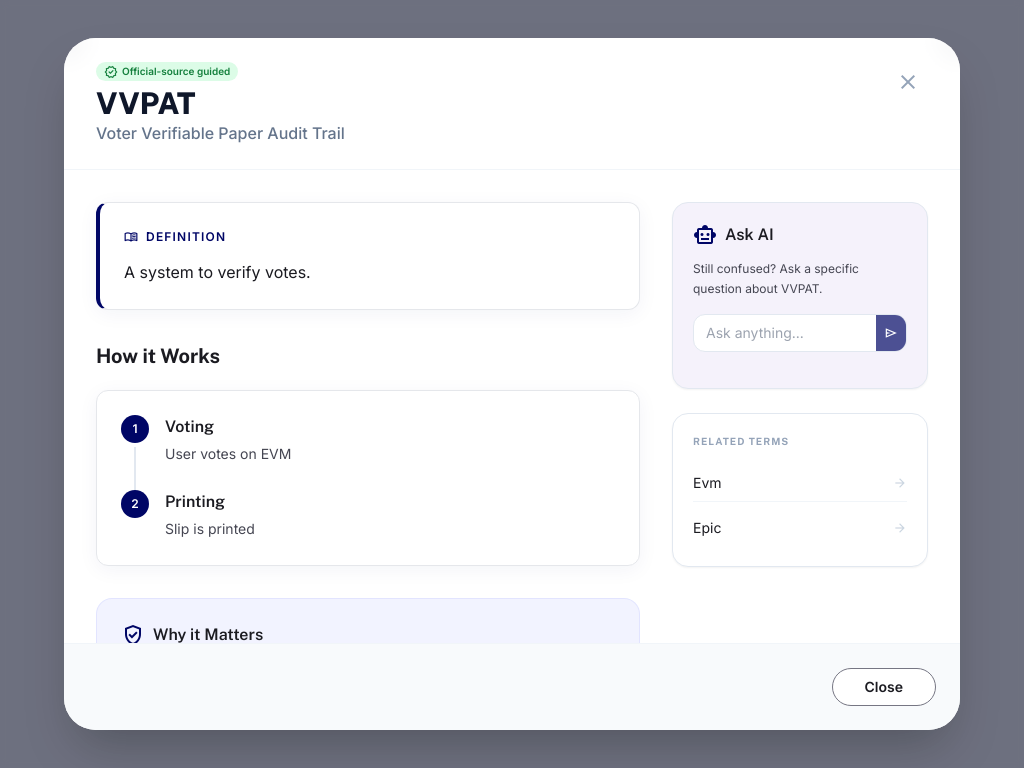
it: GlossaryModal › handles Ask AI form submission and displays response
Type "How does it print?" into the field with placeholder "Ask anything..." at (785, 333), box [694, 315, 876, 351]
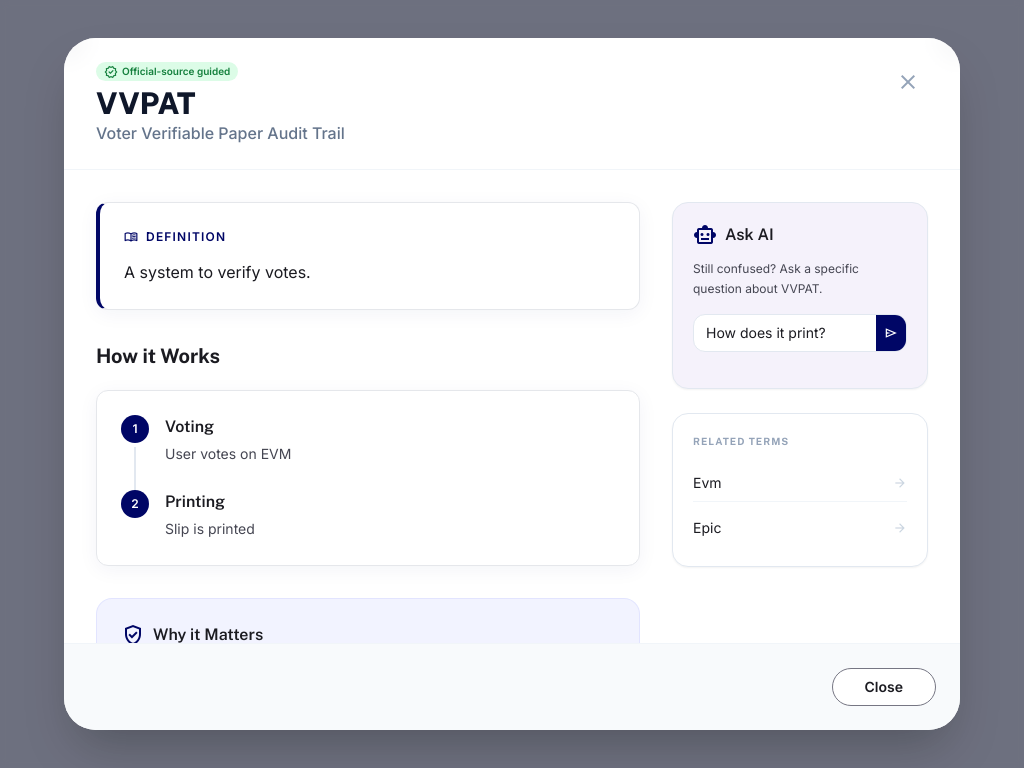
Click the button named "send" at (891, 333), box [876, 315, 906, 351]
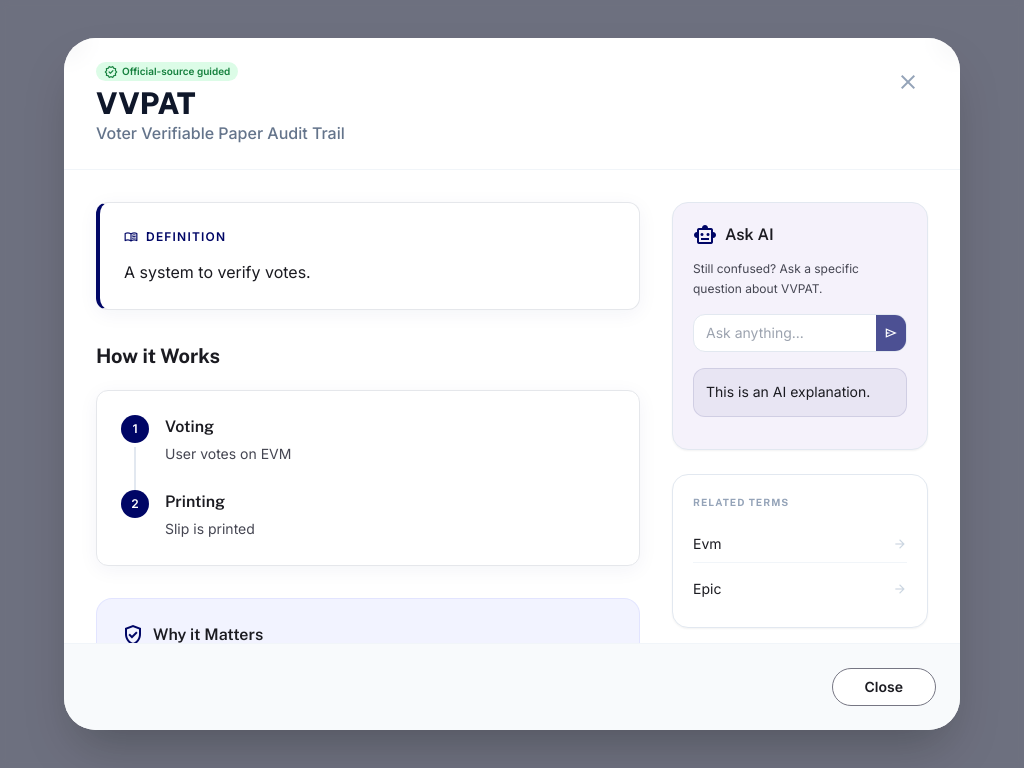
Expected: the text "This is an AI explanation." is shown, [706, 381, 894, 404]
